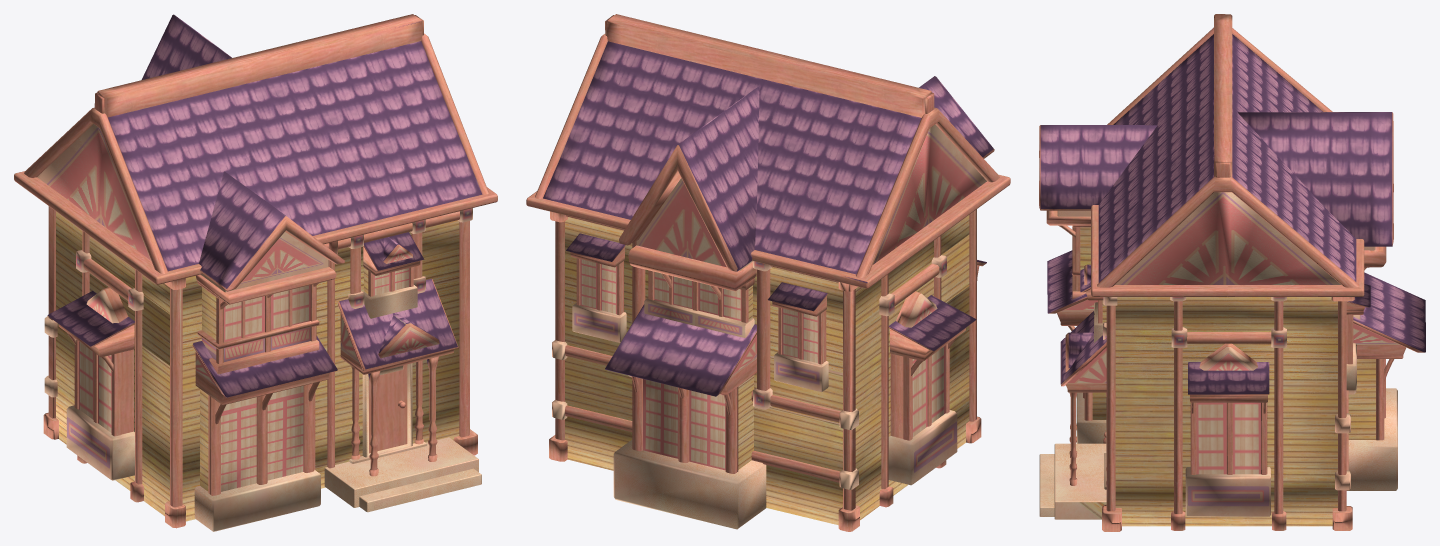
The model's file is dollhouse.glb.
3 views of the same model, side by side, from view 1: azimuth 30°, elevation 25°; view 2: azimuth 150°, elevation 25°; view 3: azimuth 270°, elevation 25° (orthographic). The views are drawn at different scales.
Visible parts, largest first — view 1: polySurface191, polySurface193, tp1_house:tp1_house:polySurface95, tp1_house:tp1_house:polySurface11, pCube1, tp1_house:tp1_house:polySurface110, tp1_house:tp1_house:polySurface98, tp1_house:tp1_house:polySurface96, tp1_house:tp1_house:polySurface90, tp1_house:tp1_house:polySurface77, pCube3, tp1_house:tp1_house:polySurface125 (+35 smaller); view 2: polySurface193, tp1_house:tp1_house:polySurface159, tp1_house:tp1_house:polySurface24, tp1_house:tp1_house:polySurface6, tp1_house:tp1_house:polySurface92, pCube1, tp1_house:tp1_house:polySurface156, pCube3, tp1_house:tp1_house:polySurface125, tp1_house:tp1_house:polySurface144, tp1_house:tp1_house:polySurface155, tp1_house:tp1_house:polySurface71 (+27 smaller); view 3: polySurface193, polySurface191, polySurface144, tp1_house:tp1_house:polySurface159, tp1_house:tp1_house:polySurface11, pCube1, pCube2, tp1_house:tp1_house:polySurface110, tp1_house:tp1_house:polySurface6, tp1_house:tp1_house:polySurface24, tp1_house:tp1_house:polySurface65, tp1_house:tp1_house:polySurface34 (+18 smaller).
Boxes of the visible parts, x1,y1,x2,y2 form: polySurface191: (108, 41, 482, 271); polySurface193: (37, 14, 459, 521); tp1_house:tp1_house:polySurface95: (200, 385, 303, 491); tp1_house:tp1_house:polySurface11: (199, 171, 344, 291); pCube1: (14, 171, 497, 284); tp1_house:tp1_house:polySurface110: (324, 437, 478, 507); tp1_house:tp1_house:polySurface98: (194, 470, 320, 531); tp1_house:tp1_house:polySurface96: (202, 285, 310, 361); tp1_house:tp1_house:polySurface90: (338, 279, 458, 370); tp1_house:tp1_house:polySurface77: (192, 336, 337, 397); pCube3: (24, 107, 167, 273); tp1_house:tp1_house:polySurface125: (78, 341, 133, 434); polySurface193: (543, 14, 986, 525); tp1_house:tp1_house:polySurface159: (619, 86, 759, 271); tp1_house:tp1_house:polySurface24: (613, 440, 766, 529); tp1_house:tp1_house:polySurface6: (605, 304, 756, 396); tp1_house:tp1_house:polySurface92: (643, 375, 753, 470); pCube1: (526, 174, 1010, 288); tp1_house:tp1_house:polySurface156: (636, 178, 752, 270); pCube3: (856, 107, 999, 278); tp1_house:tp1_house:polySurface125: (890, 345, 945, 438); tp1_house:tp1_house:polySurface144: (888, 410, 957, 485); tp1_house:tp1_house:polySurface155: (628, 245, 756, 291); tp1_house:tp1_house:polySurface71: (843, 289, 855, 510); polySurface193: (1115, 14, 1356, 526); polySurface191: (1098, 34, 1213, 282); polySurface144: (1185, 343, 1270, 516); tp1_house:tp1_house:polySurface159: (1238, 112, 1393, 246); tp1_house:tp1_house:polySurface11: (1039, 125, 1157, 210); pCube1: (1091, 205, 1364, 296); pCube2: (1097, 176, 1359, 287); tp1_house:tp1_house:polySurface110: (1054, 443, 1106, 519); tp1_house:tp1_house:polySurface6: (1353, 272, 1425, 352); tp1_house:tp1_house:polySurface24: (1346, 388, 1397, 490); tp1_house:tp1_house:polySurface65: (1106, 305, 1115, 511); tp1_house:tp1_house:polySurface34: (1274, 301, 1283, 513).
Size of the model in its own units: 804 by 807 by 756.
1 material, 1 textured.
